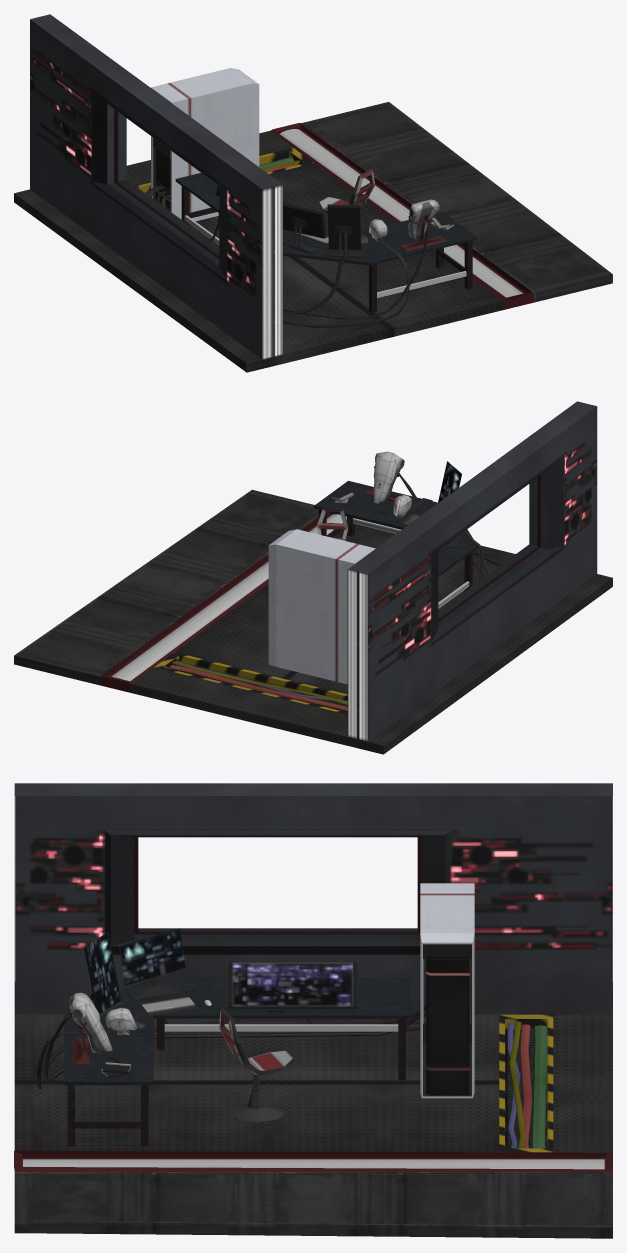
Rendered from out-4-lite.glb.
3 renders of one model, top to bottom at view 1: azimuth 30°, elevation 25°; view 2: azimuth 150°, elevation 25°; view 3: azimuth 270°, elevation 25°, orthographic. The views are drawn at different scales.
Parts seen in each view (by area): view 1: Flooring_Wall, Cabinet_Case, Tabletop03, FloorLights, Screen1, Screen, Torso, Android_Head_Cable, pCube22, Android_Torso_Cable, PC, pCube15 (+1 smaller); view 2: Flooring_Wall, Cabinet_Case, Tabletop03, FloorLights, Torso, pCylinder3, pCylinder2, Screen1, pCube22; view 3: Flooring_Wall, Tabletop03, PC, pCube6, FloorLights, Cabinet_Case, Screen, Screen1, pCube14, pCylinder5, Android_Torso_Cable, pCube22 (+8 smaller).
Boxes of the visible parts, box(x1,y1,x2,y2) form: Flooring_Wall: box(14, 14, 612, 372); Cabinet_Case: box(151, 68, 259, 221); Tabletop03: box(175, 173, 476, 265); FloorLights: box(280, 129, 522, 297); Screen1: box(327, 204, 361, 249); Screen: box(283, 203, 326, 238); Torso: box(408, 199, 439, 240); Android_Head_Cable: box(156, 191, 409, 327); pCube22: box(319, 169, 375, 213); Android_Torso_Cable: box(161, 195, 429, 319); PC: box(155, 149, 170, 208); pCube15: box(377, 271, 466, 297); Flooring_Wall: box(14, 401, 612, 754); Cabinet_Case: box(268, 529, 375, 684); Tabletop03: box(314, 480, 477, 576); FloorLights: box(111, 514, 346, 681); Torso: box(373, 451, 404, 503); pCylinder3: box(169, 665, 347, 711); pCylinder2: box(172, 661, 347, 704); Screen1: box(438, 461, 461, 502); pCube22: box(316, 508, 348, 540); Flooring_Wall: box(14, 783, 612, 1238); Tabletop03: box(64, 977, 410, 1085); PC: box(426, 944, 469, 1095); pCube6: box(227, 961, 358, 1009); FloorLights: box(23, 1159, 604, 1169); Cabinet_Case: box(420, 883, 474, 1098); Screen: box(119, 928, 185, 985); Screen1: box(84, 932, 121, 1013); pCube14: box(164, 1024, 398, 1031); pCylinder5: box(531, 1025, 547, 1148); Android_Torso_Cable: box(43, 1005, 426, 1082); pCube22: box(219, 1008, 292, 1075).
Bounding box in the file's own units: 6.14 × 2.81 × 6.61.
1 material, 1 textured.
